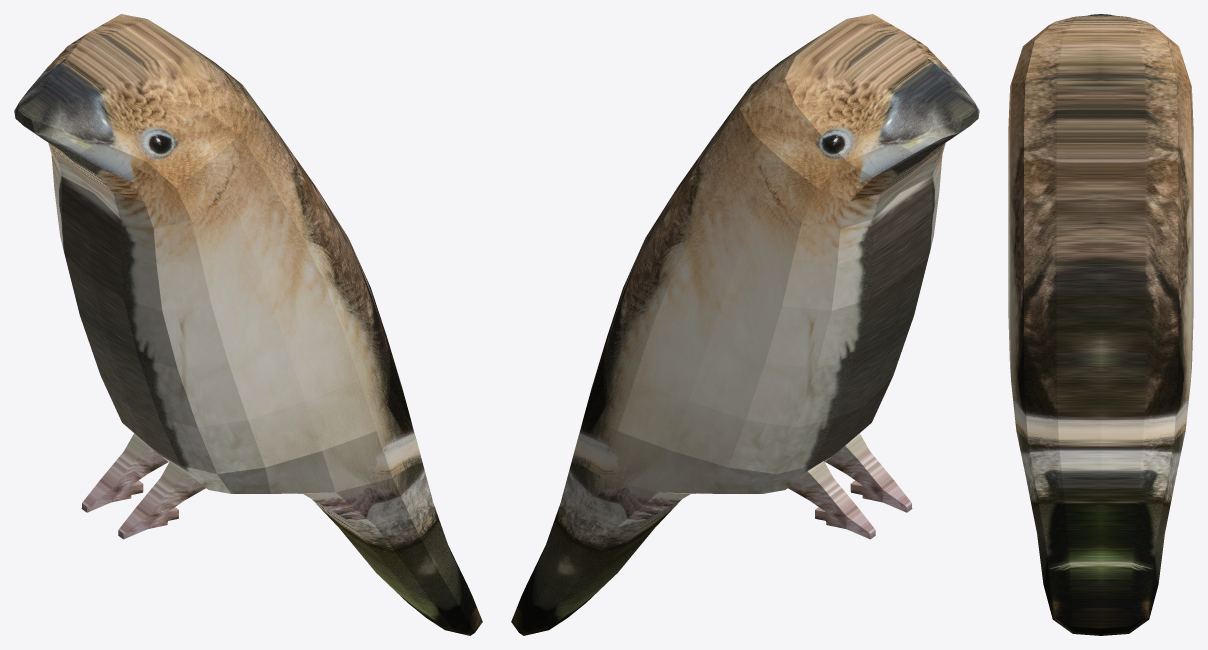
Rendered from African Silverbill.fbx.
3 views of the same model, side by side, from view 1: azimuth 30°, elevation 25°; view 2: azimuth 150°, elevation 25°; view 3: azimuth 270°, elevation 25° (orthographic). The views are drawn at different scales.
Parts seen in each view (by area): view 1: body, Feet; view 2: body, Feet; view 3: body.
Boxes of the visible parts, x1=… form: body: x1=14, y1=14, x2=482, y2=635; Feet: x1=81, y1=433, x2=205, y2=539; body: x1=511, y1=14, x2=979, y2=635; Feet: x1=788, y1=433, x2=912, y2=539; body: x1=1008, y1=14, x2=1193, y2=635.
Bounding box in the file's own units: 304 × 434 × 147.
2 materials, 2 textured.
